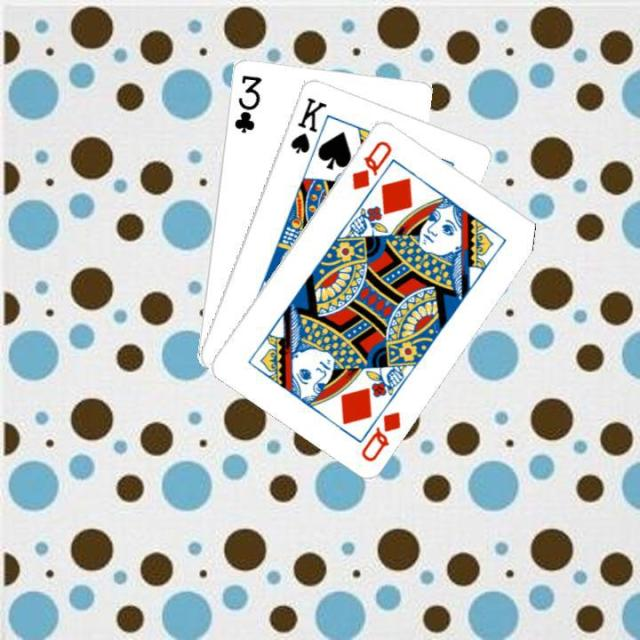3C: (229, 70, 263, 134)
KS: (286, 92, 328, 156)
QD: (357, 406, 402, 463), (348, 136, 393, 192)
